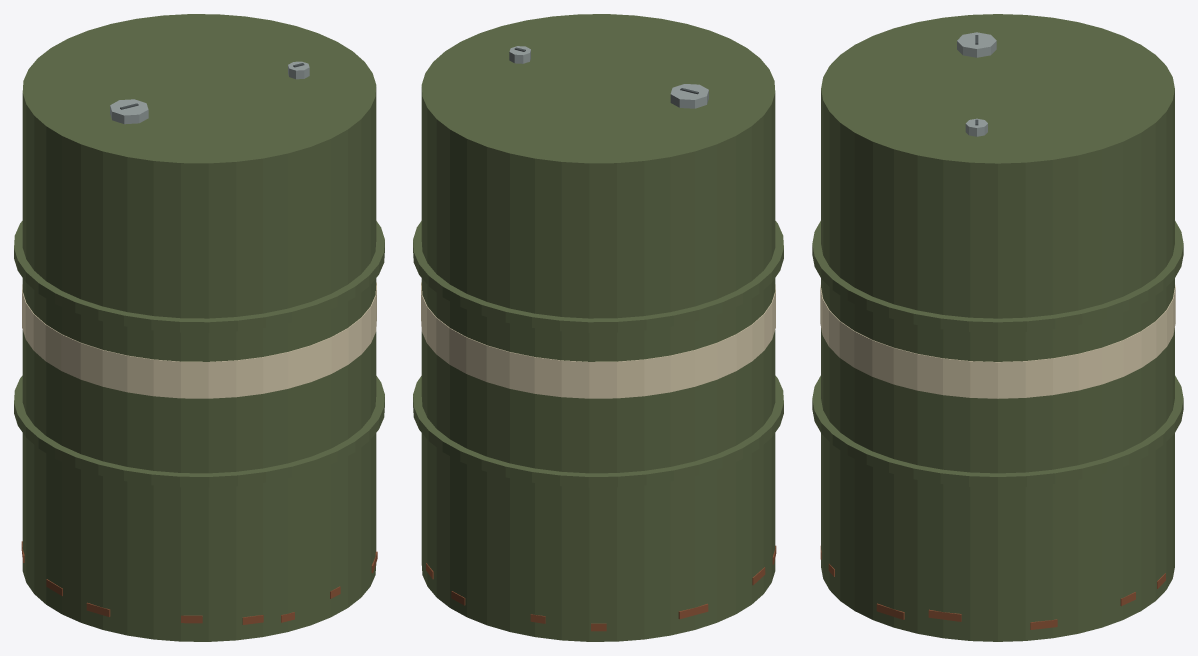
File: JUNK_DrumGreen.glb
The picture shows the model from 3 angles, left to right: view 1: azimuth 30°, elevation 25°; view 2: azimuth 150°, elevation 25°; view 3: azimuth 270°, elevation 25°; orthographic projection.
Visible parts, largest first — view 1: Shell, Stripe, RolledHoops, Bungs, FootScuffs; view 2: Shell, Stripe, RolledHoops, Bungs, FootScuffs; view 3: Shell, Stripe, RolledHoops, Bungs, FootScuffs.
Part boxes in pixels (x1,y1,x2,y2): Shell: [22, 14, 376, 641]; Stripe: [22, 282, 376, 398]; RolledHoops: [14, 221, 384, 487]; Bungs: [110, 61, 309, 124]; FootScuffs: [21, 541, 377, 624]; Shell: [421, 14, 775, 641]; Stripe: [421, 282, 775, 398]; RolledHoops: [413, 221, 783, 487]; Bungs: [509, 46, 708, 108]; FootScuffs: [426, 545, 776, 631]; Shell: [821, 14, 1174, 641]; Stripe: [820, 285, 1175, 398]; RolledHoops: [812, 221, 1183, 487]; Bungs: [957, 32, 996, 136]; FootScuffs: [820, 546, 1165, 629].
Size of the model in its own units: 0.598 by 0.868 by 0.598.
